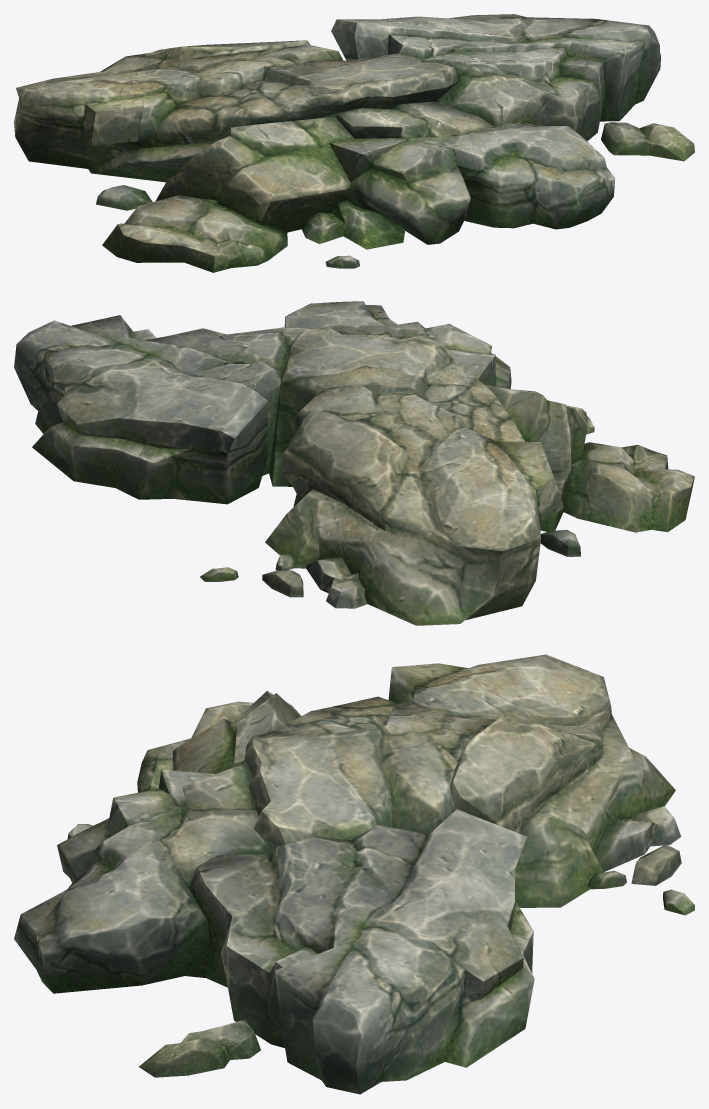
The model's file is 4004_Item_shitou_1.FBX.
The picture shows the model from 3 angles, top to bottom: view 1: azimuth 30°, elevation 25°; view 2: azimuth 150°, elevation 25°; view 3: azimuth 270°, elevation 25°; orthographic projection. The views are drawn at different scales.
Parts seen in each view (by area): view 1: 4004_Item_shitou_1; view 2: 4004_Item_shitou_1; view 3: 4004_Item_shitou_1.
Boxes of the visible parts, left/top/right/bottom form: 4004_Item_shitou_1: left=14, top=14, right=694, bottom=272; 4004_Item_shitou_1: left=14, top=301, right=694, bottom=625; 4004_Item_shitou_1: left=14, top=654, right=694, bottom=1094.
Bounding box in the file's own units: 433 × 79.04 × 337.
